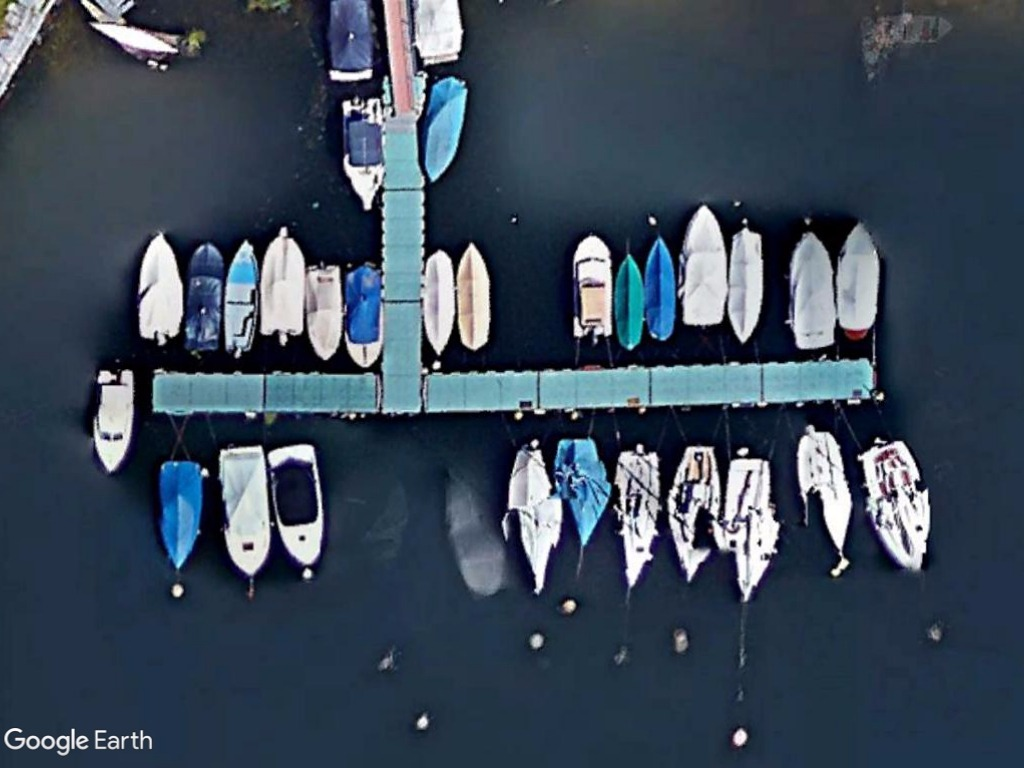boat: (854, 436, 932, 573), (265, 437, 330, 569), (212, 441, 272, 577), (672, 194, 730, 329), (783, 224, 839, 354), (336, 90, 391, 214), (562, 227, 618, 345), (832, 218, 886, 339), (259, 223, 310, 347), (155, 456, 208, 573), (178, 235, 229, 356), (88, 363, 140, 476), (420, 75, 473, 183), (134, 225, 182, 344), (723, 225, 768, 348), (339, 257, 384, 373), (454, 236, 496, 356), (222, 232, 262, 357), (302, 259, 347, 365), (611, 249, 649, 354), (643, 231, 678, 344), (422, 243, 454, 363)
